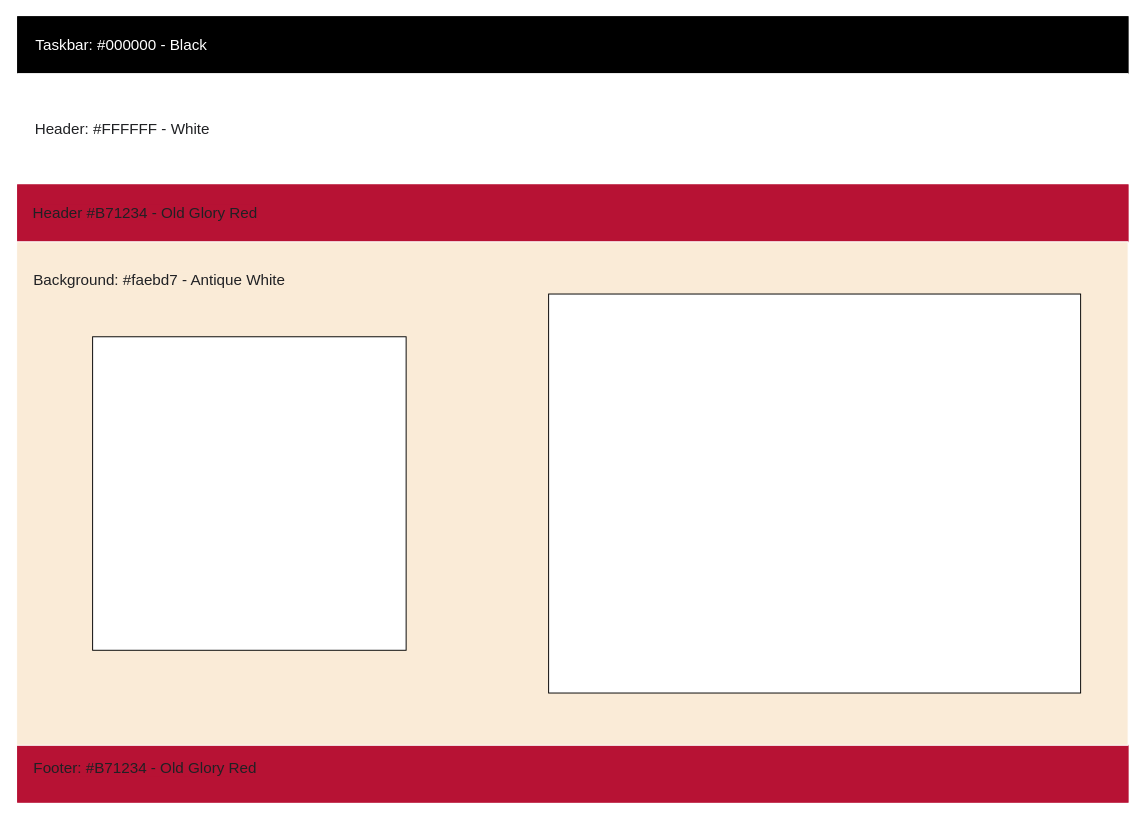
Some shapes in this 1145 by 819 pixel diagram are drawn without their labels. Here are the shapes that lost their labels. From the top down, the centre of each, then its label:
At (249,493): "Image".
At (814,493): "Text".
